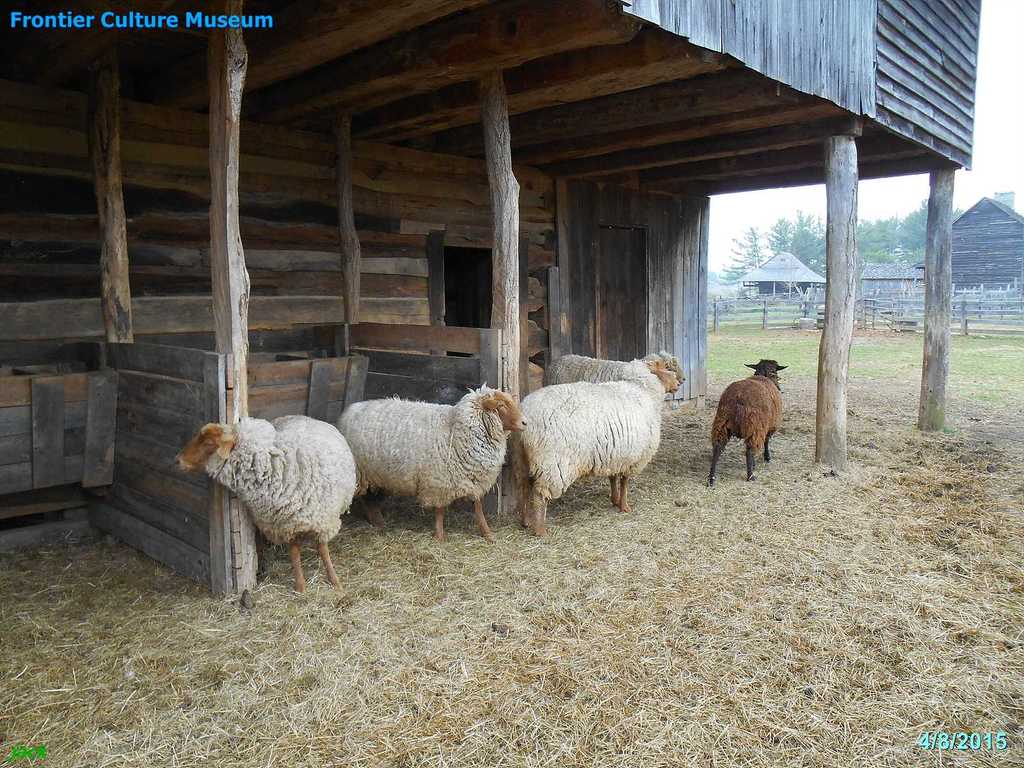sheep: (707, 362, 784, 483)
